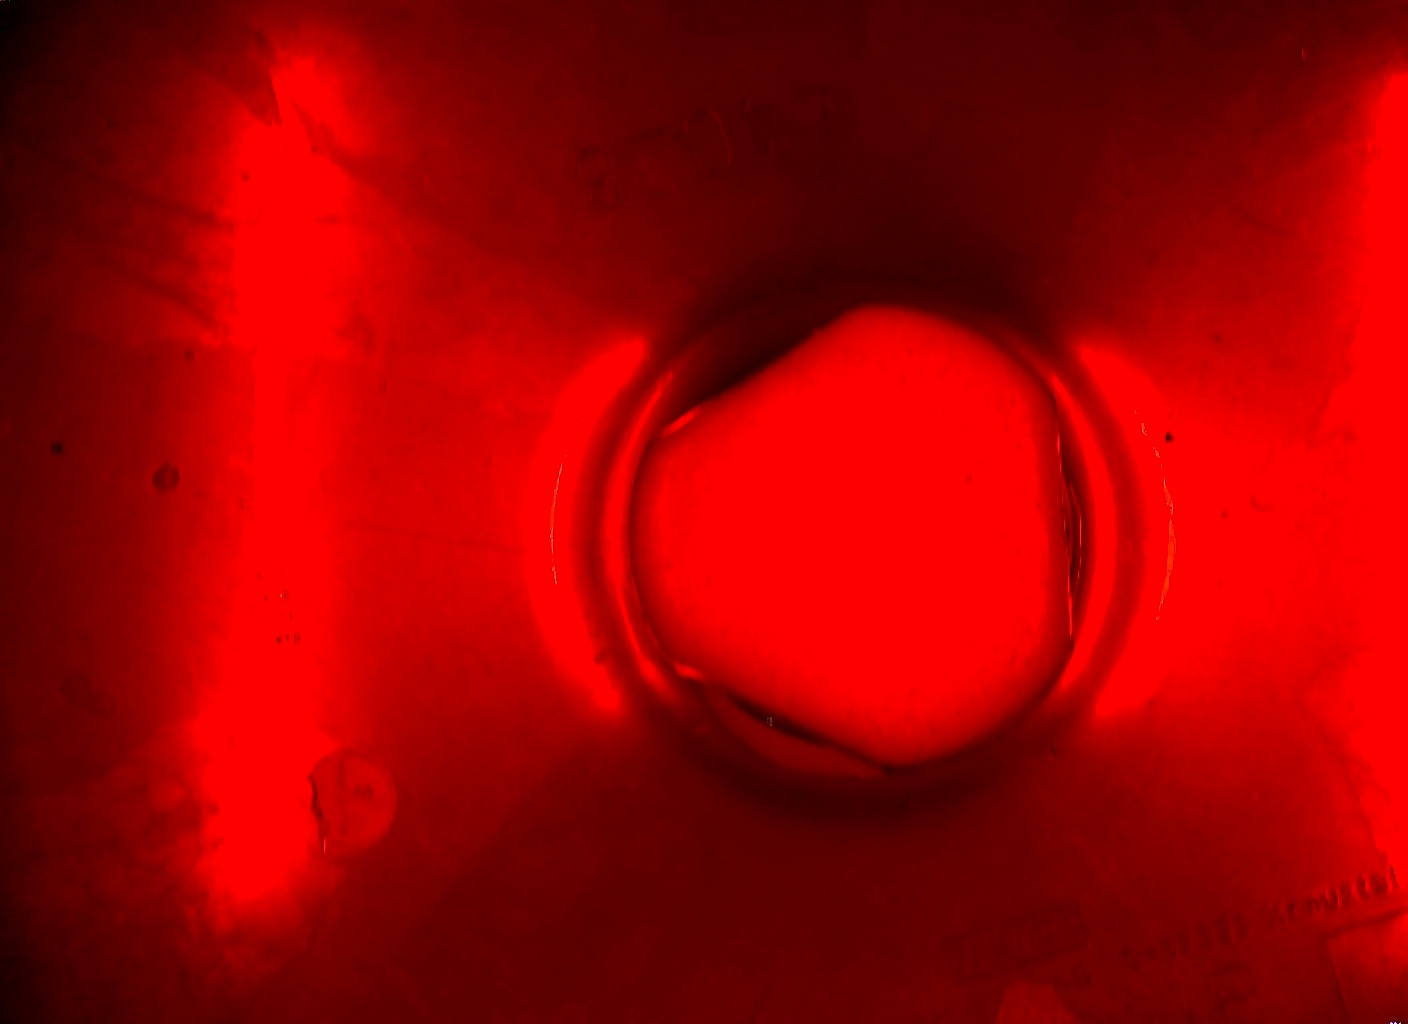shapka: (621, 297, 1094, 769)
